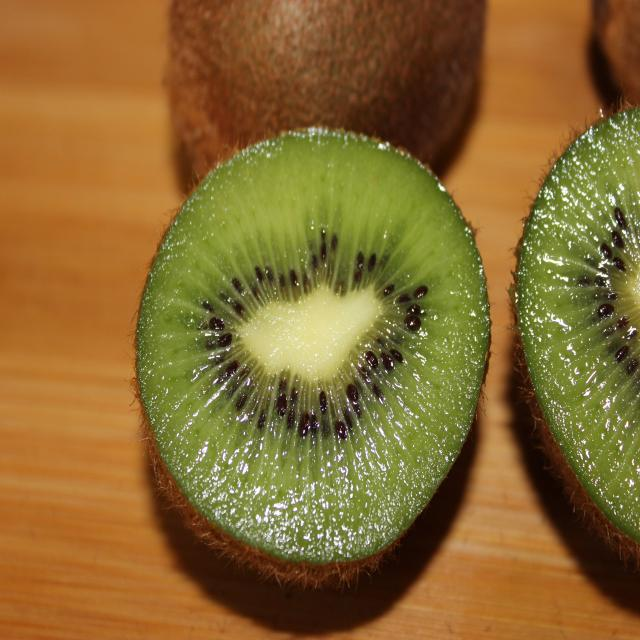cherry: (152, 127, 155, 131)
kiwi: (130, 115, 495, 596), (494, 119, 640, 589), (130, 0, 516, 169), (578, 0, 640, 103)
